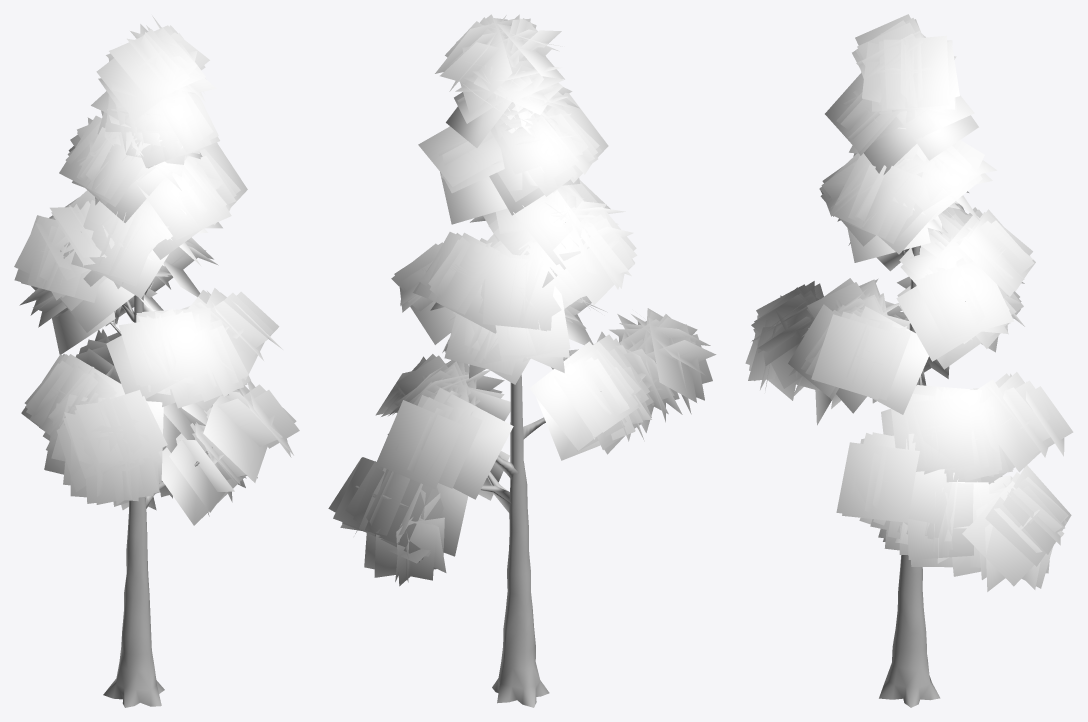
File: pineTree_LOD2.fbx
3 renders of one model, left to right at view 1: azimuth 30°, elevation 25°; view 2: azimuth 150°, elevation 25°; view 3: azimuth 270°, elevation 25°, orthographic.
Parts seen in each view (by area): view 1: t_leaves02_1, _0; view 2: t_leaves02_1, _0; view 3: t_leaves02_1, _0.
Boxes of the visible parts, left/top/right/bottom form: t_leaves02_1: left=14, top=15, right=299, bottom=525; _0: left=103, top=282, right=212, bottom=707; t_leaves02_1: left=328, top=14, right=716, bottom=586; _0: left=480, top=374, right=549, bottom=707; t_leaves02_1: left=745, top=14, right=1073, bottom=591; _0: left=879, top=245, right=965, bottom=707.
Bounding box in the file's own units: 2316 × 5431 × 2390.
